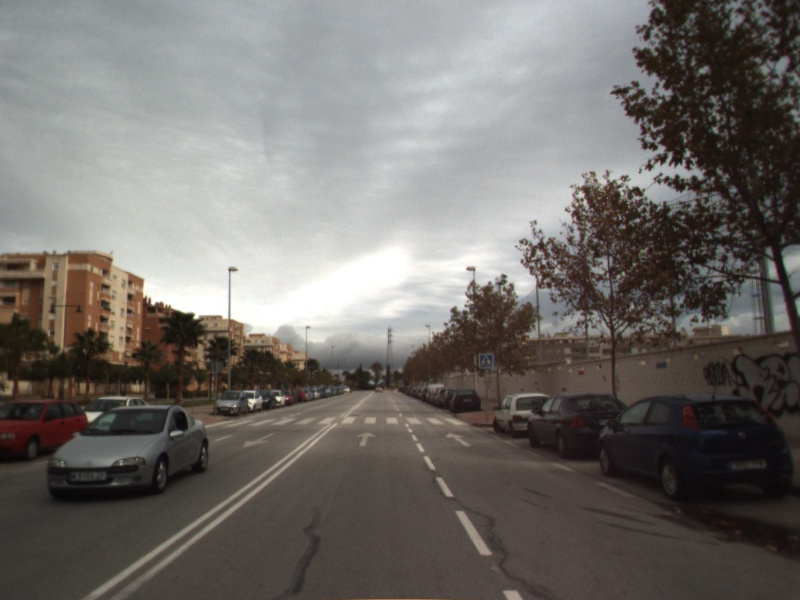STRAIGHT: (444, 430, 473, 448), (354, 430, 378, 448)
